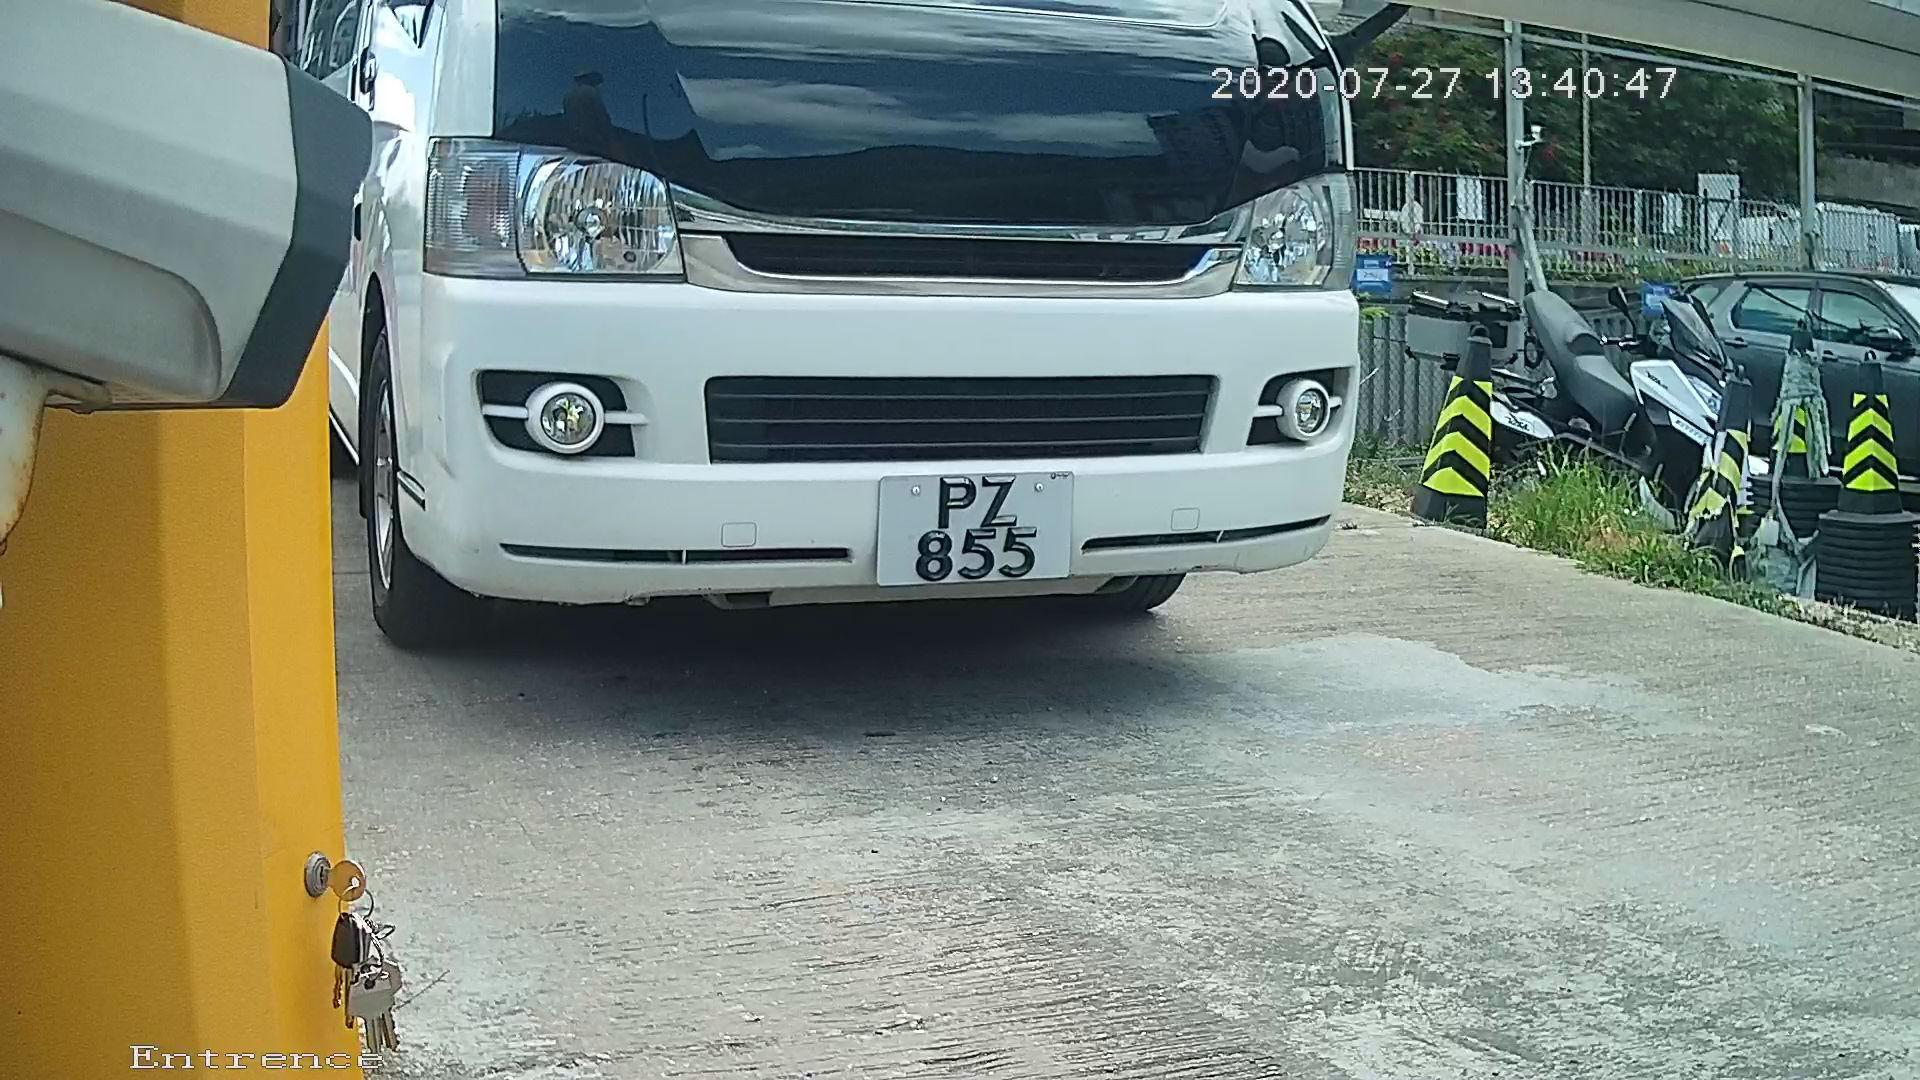License Plate: (841, 459, 1089, 598)
